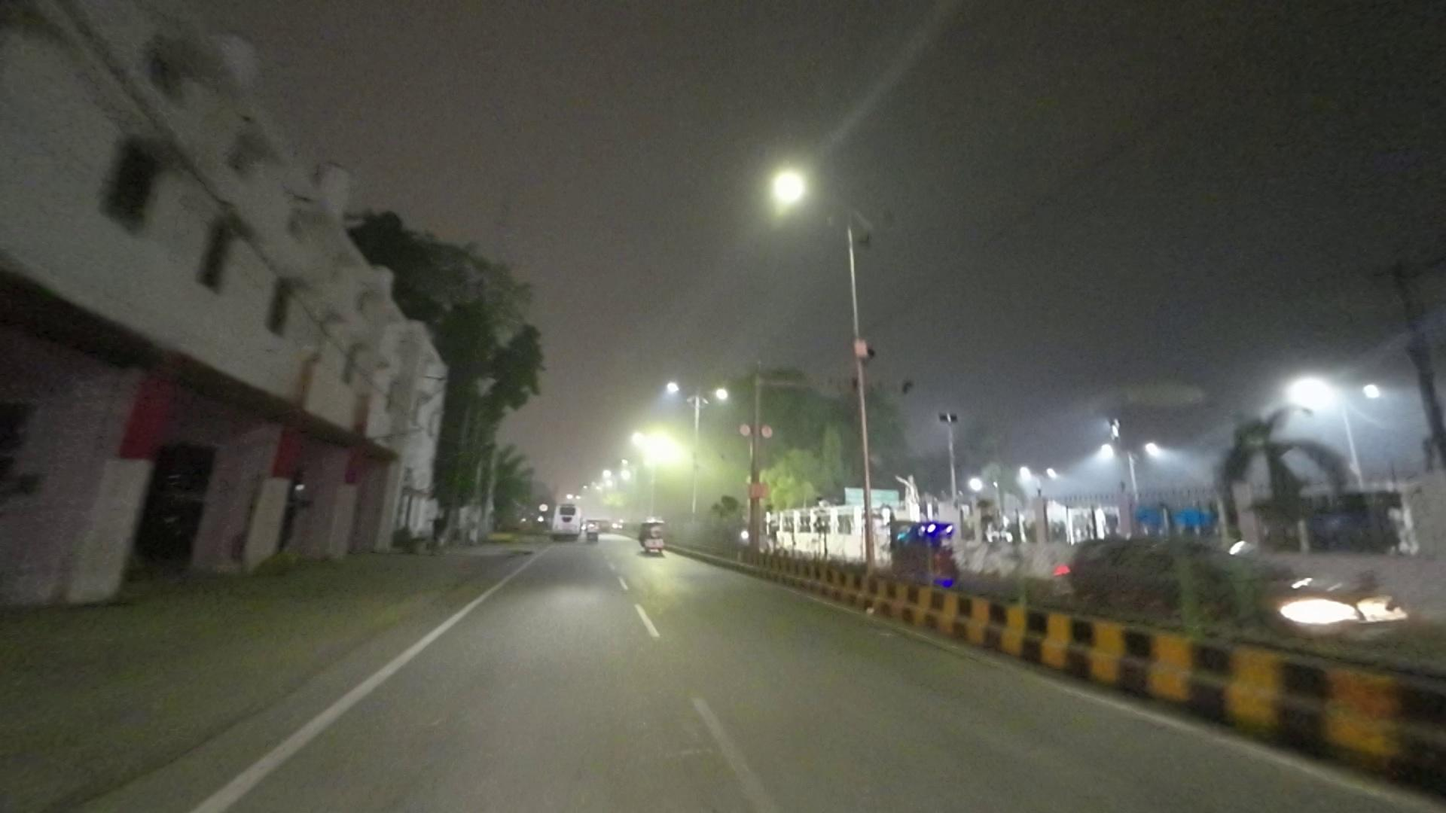streetlight: (859, 203, 904, 223)
